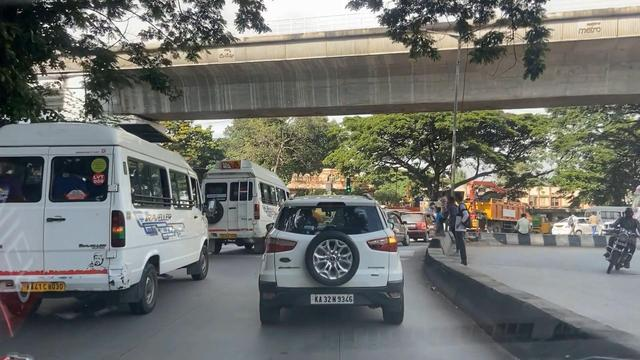HMV: (0, 133, 210, 311), (219, 163, 272, 248)
LMV: (262, 192, 404, 328)
